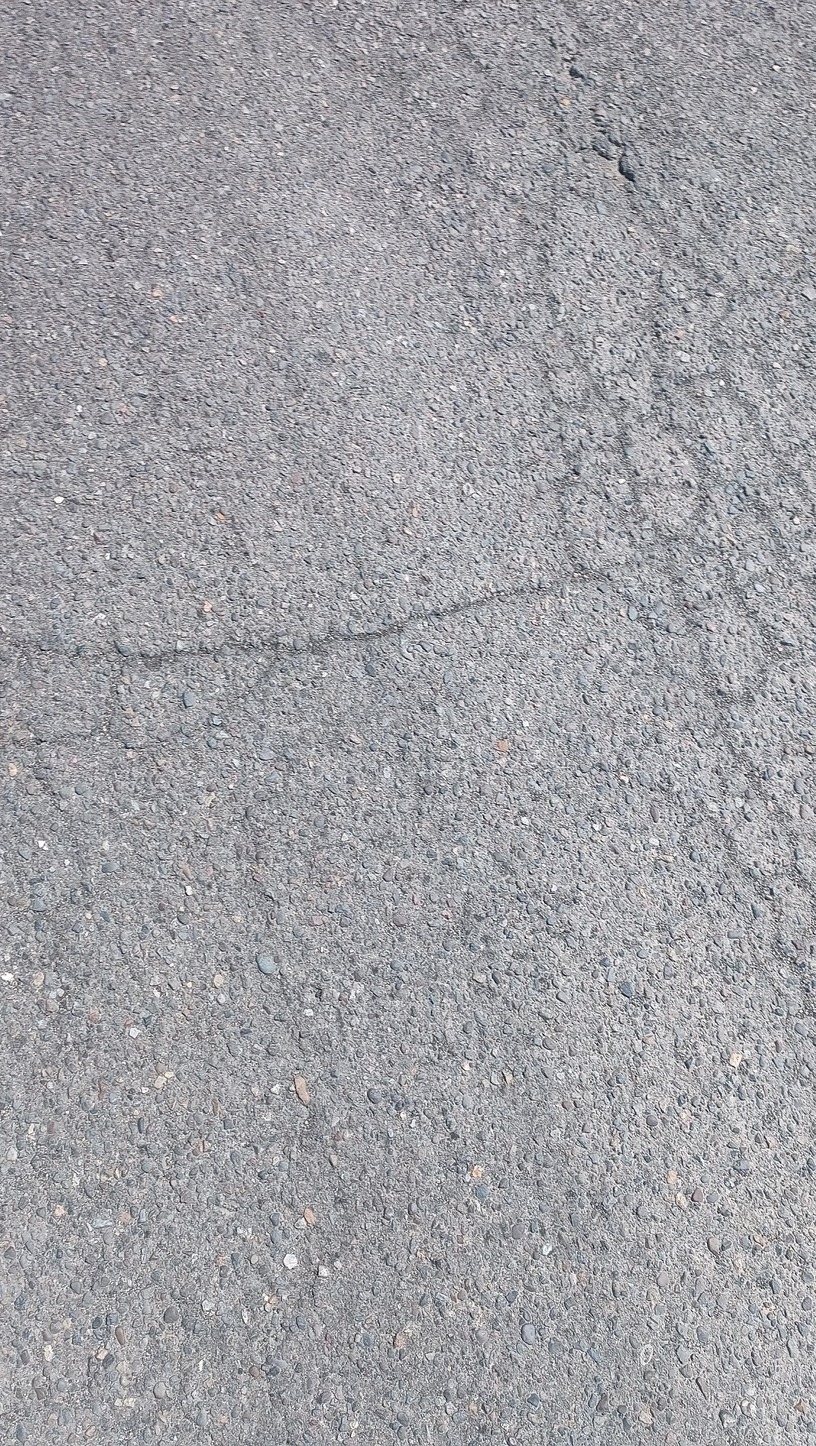GRIETA: (0, 576, 575, 669)
PIEL DE COCODRILO: (313, 0, 816, 1032)
